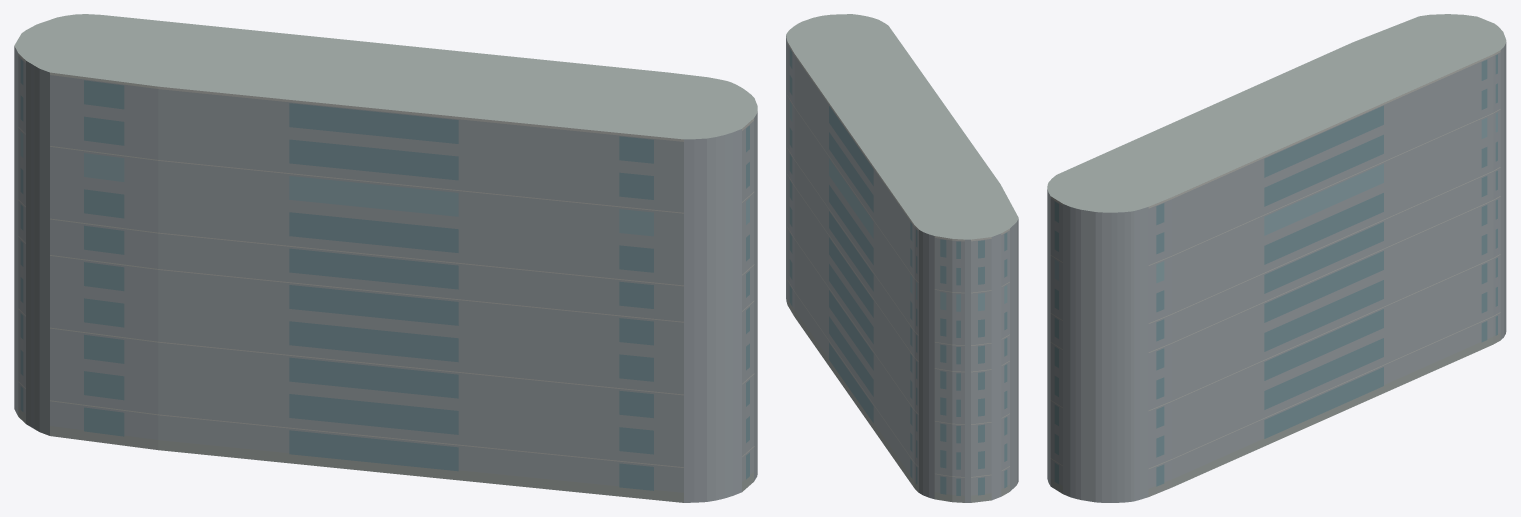
Rendered from survey-upis-32526873.glb.
3 views of the same model, side by side, from view 1: azimuth 30°, elevation 25°; view 2: azimuth 150°, elevation 25°; view 3: azimuth 270°, elevation 25° (orthographic). The views are drawn at different scales.
Parts seen in each view (by area): view 1: survey-upis-32526873.tmp; view 2: survey-upis-32526873.tmp; view 3: survey-upis-32526873.tmp.
Boxes of the visible parts, x1,y1,x2,y2 form: survey-upis-32526873.tmp: (14, 14, 757, 502); survey-upis-32526873.tmp: (786, 14, 1018, 502); survey-upis-32526873.tmp: (1047, 14, 1506, 502).
Bounding box in the file's own units: 52.66 × 35.9 × 51.44.
